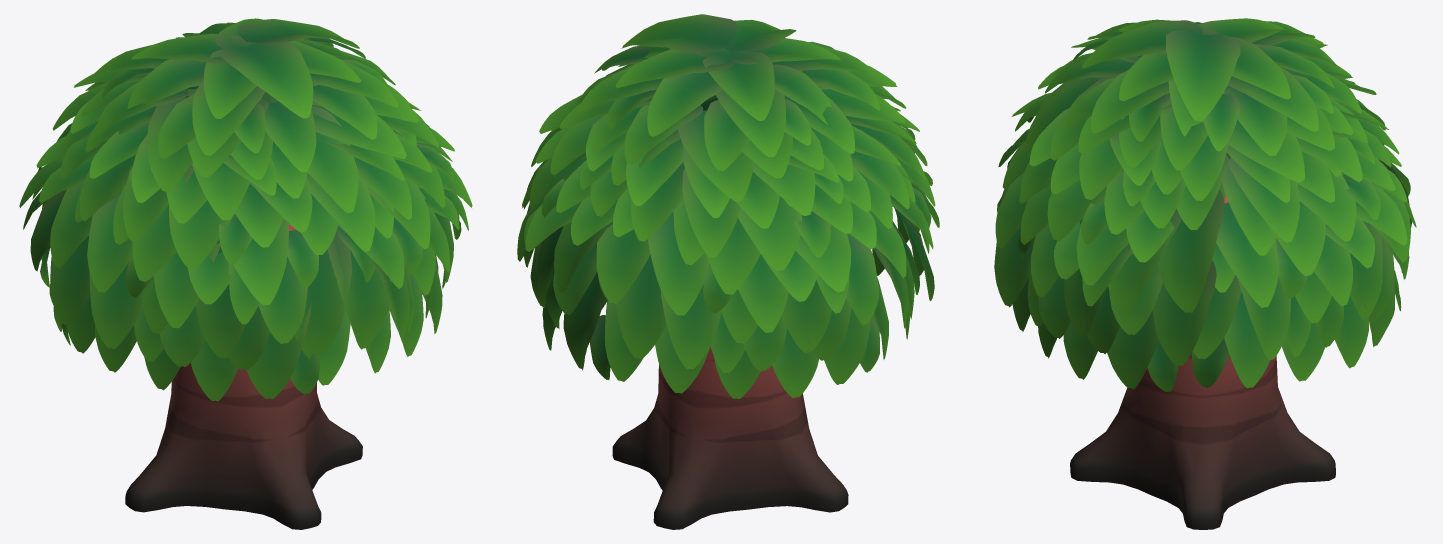
Rendered from Tree_2a.fbx.
The picture shows the model from 3 angles, left to right: view 1: azimuth 30°, elevation 25°; view 2: azimuth 150°, elevation 25°; view 3: azimuth 270°, elevation 25°; orthographic projection.
Visible parts, largest first — view 1: Tree_2a; view 2: Tree_2a; view 3: Tree_2a.
Boxes of the visible parts, x1=… form: Tree_2a: x1=19, y1=18, x2=472, y2=529; Tree_2a: x1=517, y1=14, x2=939, y2=529; Tree_2a: x1=994, y1=18, x2=1416, y2=529.
Bounding box in the file's own units: 64.4 × 70.93 × 64.4.
